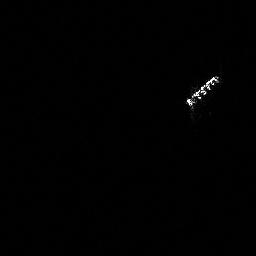ship: (182, 72, 223, 109)
